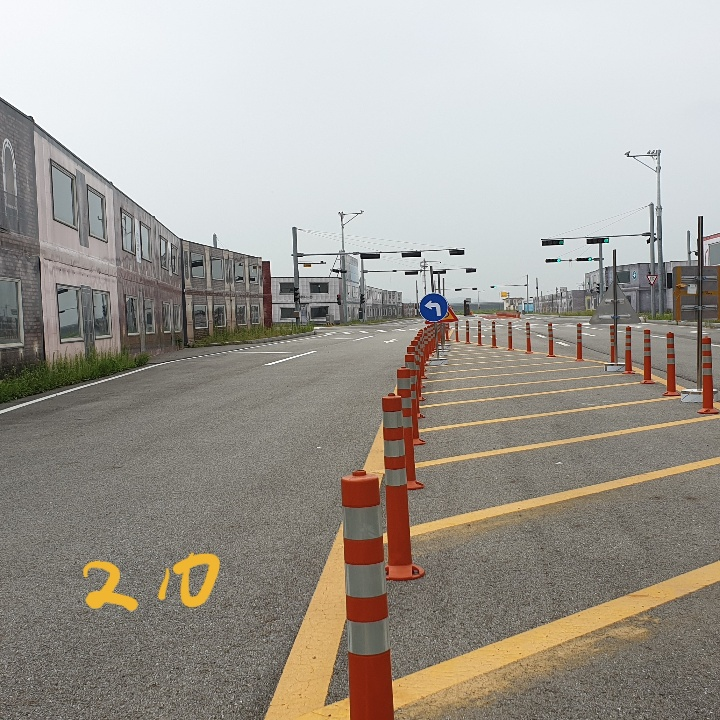left: (421, 296, 446, 318)
